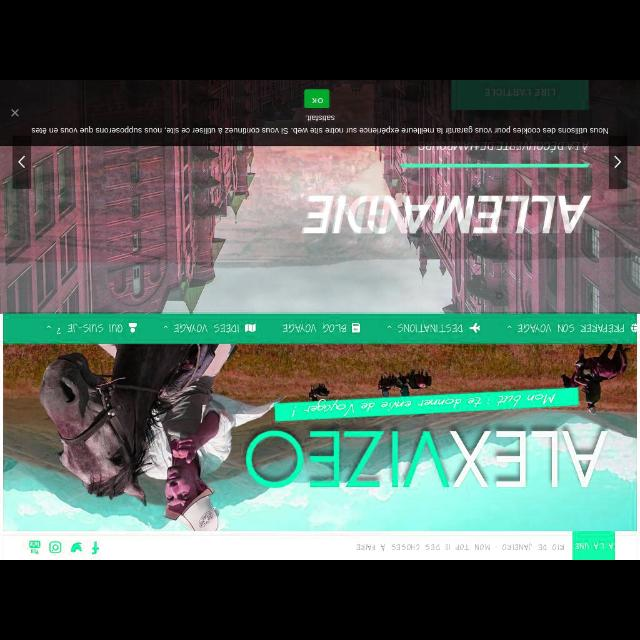backgroundimage: (1, 83, 638, 311)
button: (609, 140, 627, 188), (15, 138, 30, 188)
icon: (126, 322, 142, 336), (468, 322, 482, 336), (243, 322, 259, 334), (351, 320, 362, 336), (18, 153, 26, 171), (613, 156, 623, 170), (10, 108, 20, 119), (630, 322, 638, 333)
iframe: (1, 84, 636, 146)
image: (6, 344, 636, 530), (574, 532, 614, 560), (69, 540, 83, 554), (90, 541, 102, 557), (49, 539, 61, 555), (27, 542, 43, 554)
multitab: (2, 312, 638, 344)
spinner: (506, 320, 626, 334), (386, 320, 464, 336), (162, 319, 238, 335), (45, 322, 122, 334)
text: (300, 192, 592, 238), (28, 114, 608, 134), (417, 139, 588, 151), (356, 540, 492, 552), (398, 321, 462, 335), (282, 322, 346, 336), (483, 85, 557, 97), (519, 324, 623, 332), (173, 322, 237, 334), (500, 542, 566, 552), (65, 324, 121, 334)
textbutton: (451, 82, 591, 110), (304, 89, 330, 107)
